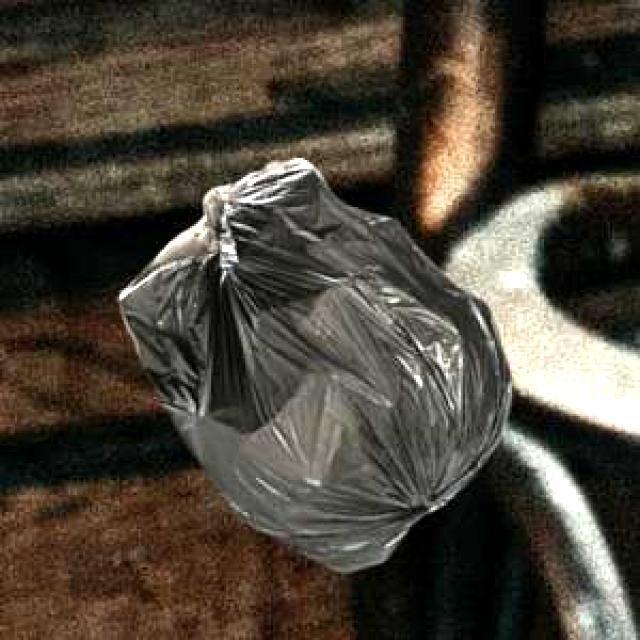Garbage_Bag: (118, 156, 509, 568)
